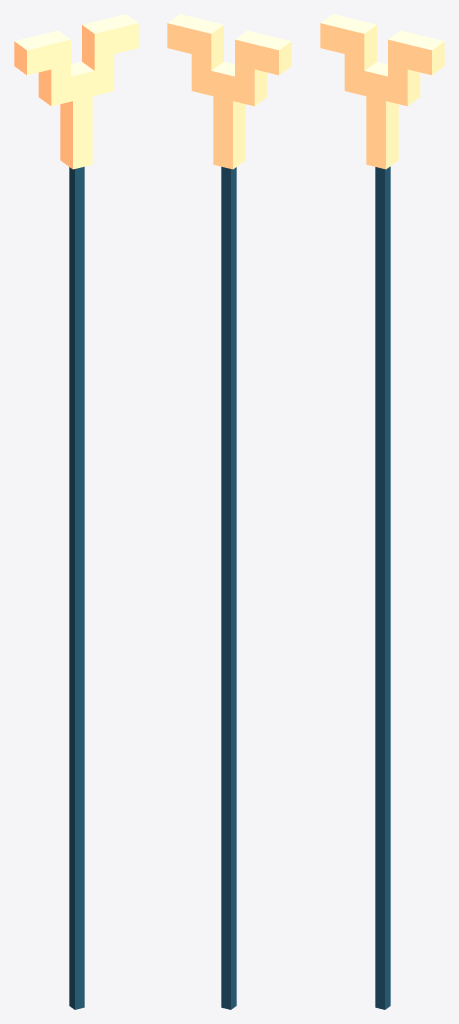
The model's file is Ytower_78m50em.gltf.
3 views of the same model, side by side, from view 1: azimuth 30°, elevation 25°; view 2: azimuth 150°, elevation 25°; view 3: azimuth 330°, elevation 25° (orthographic).
Parts seen in each view (by area): view 1: Cube, Y; view 2: Cube, Y; view 3: Cube, Y.
Part boxes in pixels (x1=…): Cube: x1=69, y1=166, x2=84, y2=1009; Y: x1=14, y1=14, x2=138, y2=169; Cube: x1=221, y1=166, x2=236, y2=1009; Y: x1=167, y1=14, x2=291, y2=169; Cube: x1=375, y1=166, x2=390, y2=1009; Y: x1=320, y1=14, x2=444, y2=169.
Size of the model in its own units: 9.51 by 79.34 by 1.84.
